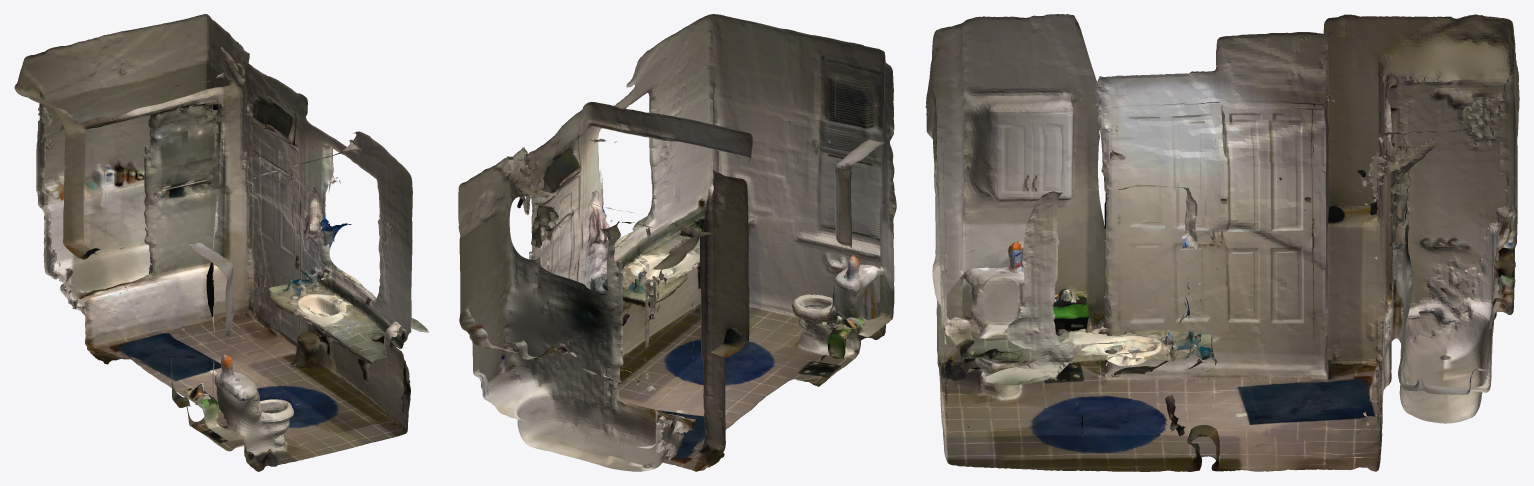
Rendered from bathroom1.glb.
3 views of the same model, side by side, from view 1: azimuth 30°, elevation 25°; view 2: azimuth 150°, elevation 25°; view 3: azimuth 270°, elevation 25° (orthographic). The views are drawn at different scales.
Parts seen in each view (by area): view 1: Mesh_1; view 2: Mesh_1; view 3: Mesh_1.
Boxes of the visible parts, box(x1,y1,x2,y2) form: Mesh_1: box(14, 14, 428, 471); Mesh_1: box(458, 14, 896, 471); Mesh_1: box(925, 14, 1519, 471).
Bounding box in the file's own units: 2.37 × 2.72 × 4.21.
Materials: 3 (3 with a texture image).
